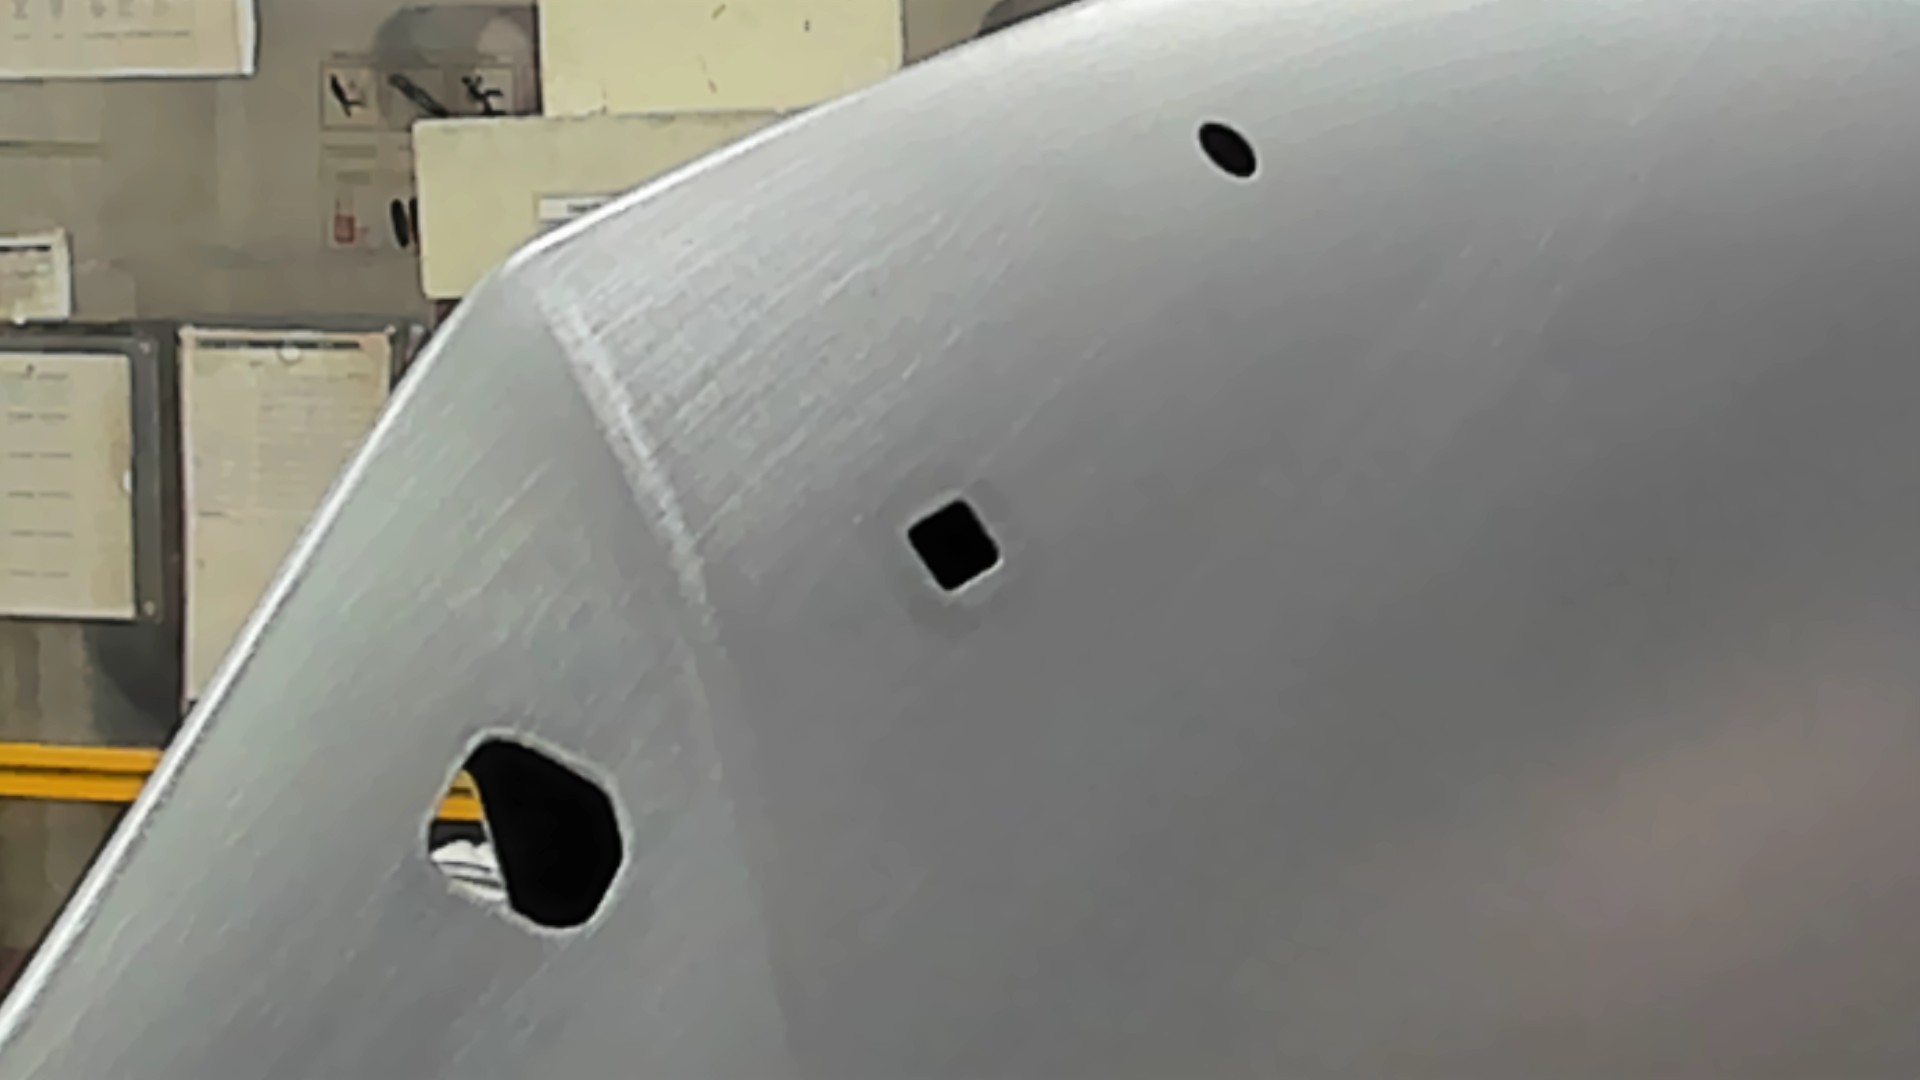chico: (1193, 115, 1261, 182)
grande: (410, 727, 636, 940)
mediano: (895, 492, 1007, 600)
